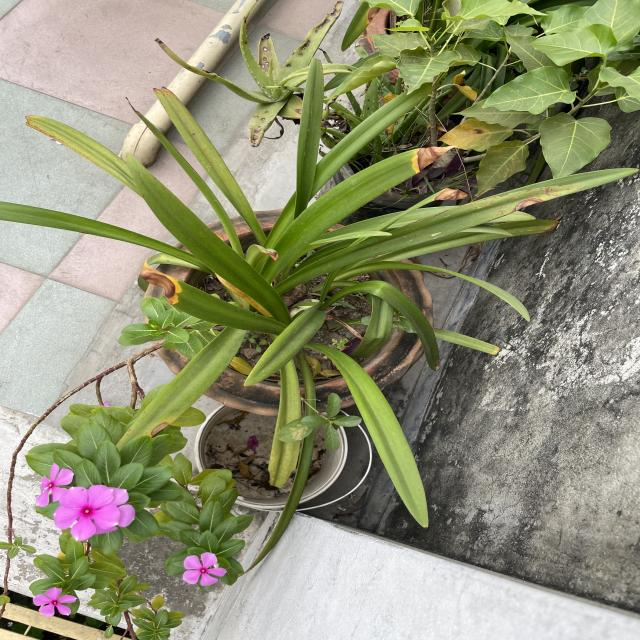Breeding Place: (147, 206, 446, 397), (205, 394, 352, 510)
